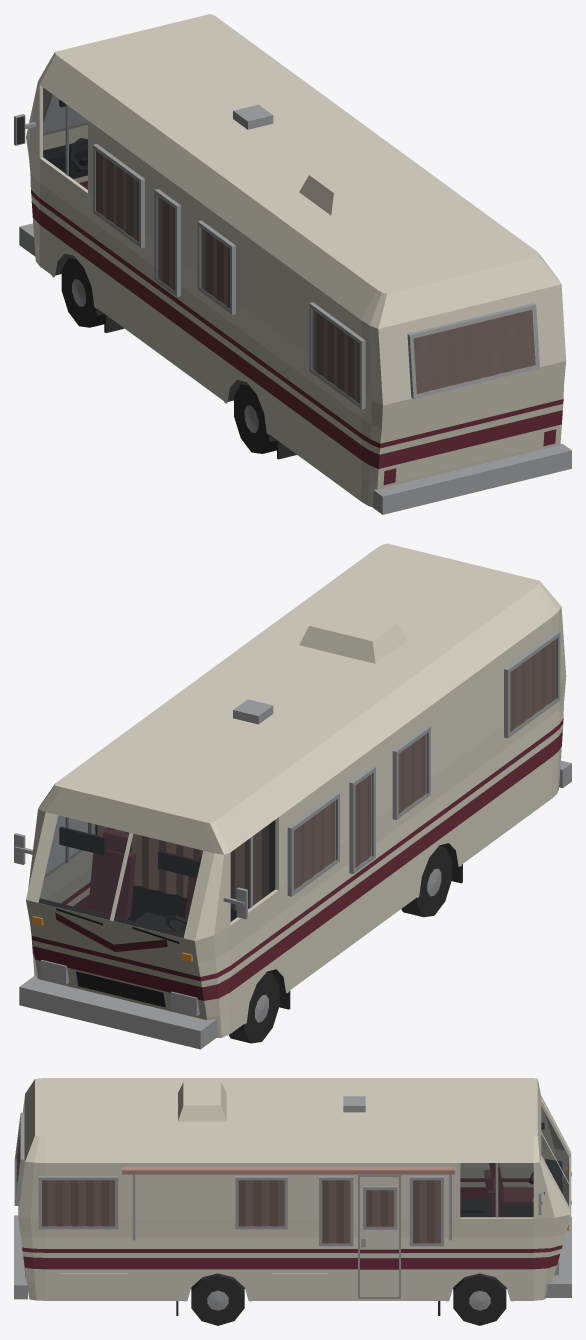
Rendered from winnebago.glb.
The picture shows the model from 3 angles, top to bottom: view 1: azimuth 30°, elevation 25°; view 2: azimuth 150°, elevation 25°; view 3: azimuth 270°, elevation 25°; orthographic projection. The views are drawn at different scales.
Visible parts, largest first — view 1: Winnebago, WinnebagoGlass; view 2: Winnebago, WinnebagoGlass; view 3: Winnebago, WinnebagoGlass.
Boxes of the visible parts, x1,y1,x2,y2 form: Winnebago: (14, 14, 571, 514); WinnebagoGlass: (43, 87, 535, 403); Winnebago: (14, 543, 571, 1049); WinnebagoGlass: (39, 638, 557, 937); Winnebago: (14, 1078, 571, 1325); WinnebagoGlass: (15, 1106, 568, 1243).
Size of the model in its own units: 2.92 by 3.14 by 8.
